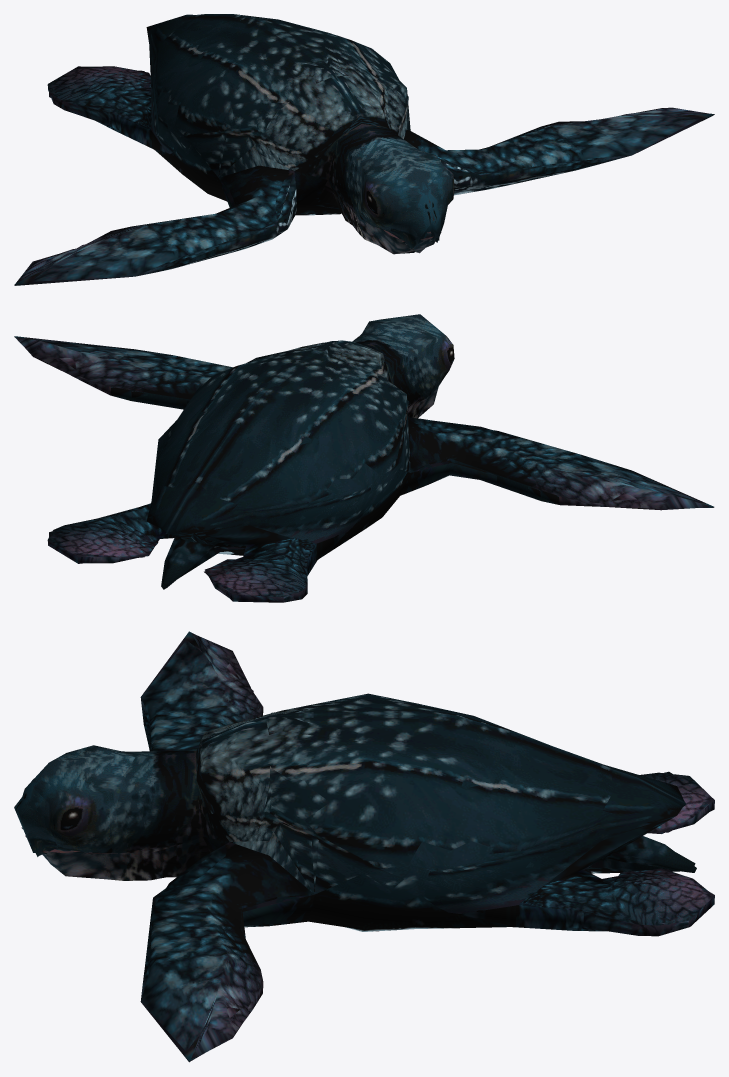
Rendered from male.obj.
3 views of the same model, one above another, from view 1: azimuth 30°, elevation 25°; view 2: azimuth 150°, elevation 25°; view 3: azimuth 270°, elevation 25° (orthographic). The views are drawn at different scales.
Visible parts, largest first — view 1: Editable_Mesh.000_Editable_Mesh.050, Editable_Mesh.001_Editable_Mesh.051, Editable_Mesh.049; view 2: Editable_Mesh.000_Editable_Mesh.050, Editable_Mesh.001_Editable_Mesh.051, Editable_Mesh.049; view 3: Editable_Mesh.000_Editable_Mesh.050, Editable_Mesh.001_Editable_Mesh.051, Editable_Mesh.049.
Boxes of the visible parts, x1,y1,x2,y2 form: Editable_Mesh.000_Editable_Mesh.050: (14,14,714,285); Editable_Mesh.001_Editable_Mesh.051: (14,14,714,284); Editable_Mesh.049: (15,46,713,285); Editable_Mesh.000_Editable_Mesh.050: (14,319,714,602); Editable_Mesh.001_Editable_Mesh.051: (14,314,713,602); Editable_Mesh.049: (49,333,713,598); Editable_Mesh.000_Editable_Mesh.050: (27,633,713,1061); Editable_Mesh.001_Editable_Mesh.051: (22,631,714,1061); Editable_Mesh.049: (14,686,685,1061).
Size of the model in its own units: 1.99 by 0.3965 by 1.37.
